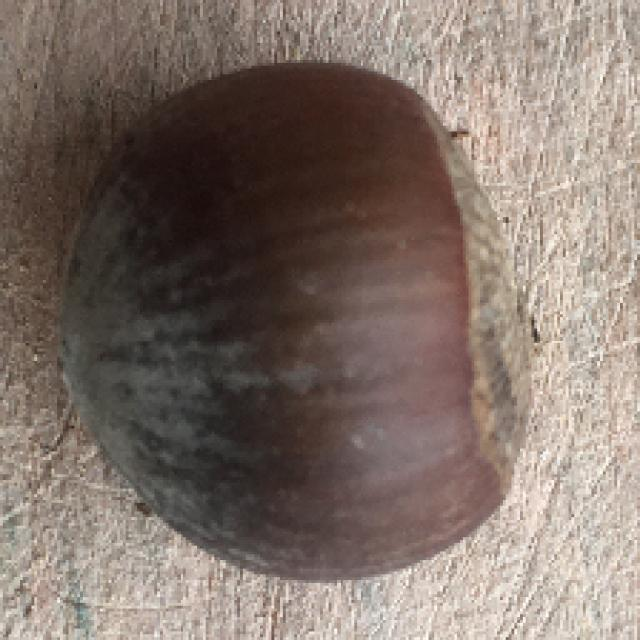DamagedHazelnut: (59, 60, 536, 582)
